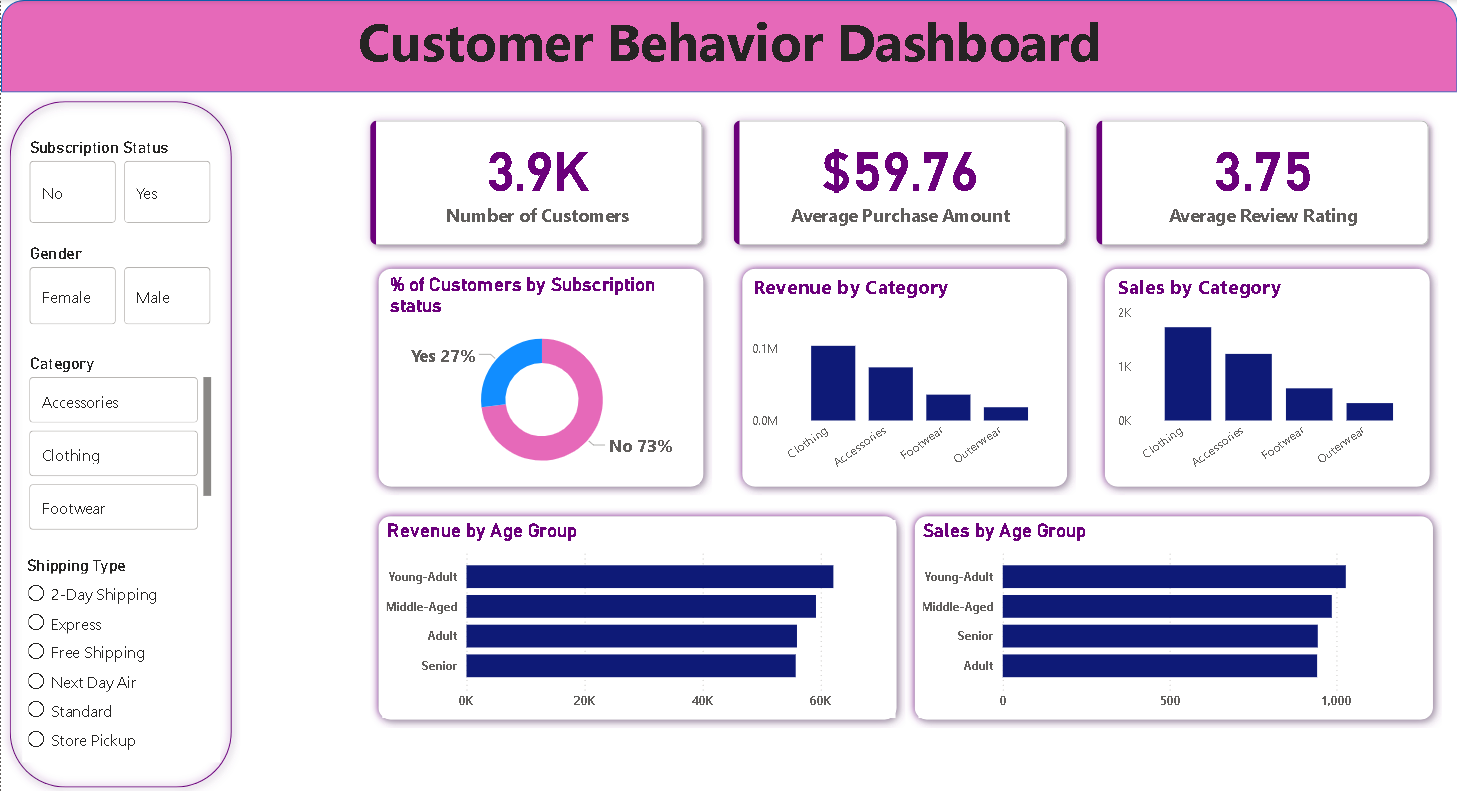

Layout of this report page (visuals, bound fields, positions):
{"tool":"powerbi","page":{"name":"Page 1","canvas":[1500,820],"ordinal":0},"visuals":[{"type":"cardVisual","fields":{"Data":["public customer.Number of Customers","public customer.Average Purchase Amount","public customer.Average Review Rating"]},"box":[351.6,95.4,1148.7,186.7],"z":0},{"type":"shape","box":[0,0,1500.3,95.4],"z":1000},{"type":"textbox","box":[0,0,1500.3,95.4],"z":2000},{"type":"shape","box":[380.2,268.4,352.9,242.6],"z":3000},{"type":"donutChart","title":"% of Customers by Subscription status","fields":{"Category":["public customer.subscription_status"],"Y":["CountNonNull(public customer.customer_id)"]},"box":[395.2,282.1,324.3,216.7],"z":4000},{"type":"shape","box":[1128.3,268.4,352.9,242.6],"z":5000},{"type":"shape","box":[754.9,268.4,352.9,242.6],"z":6000},{"type":"clusteredColumnChart","title":"Revenue by Category","fields":{"Y":["Sum(public customer.purchase_amount)"],"Category":["public customer.category"]},"box":[769.9,280.7,318.9,216.7],"z":7000},{"type":"clusteredColumnChart","title":"Sales by Category","fields":{"Y":["CountNonNull(public customer.customer_id)"],"Category":["public customer.category"]},"box":[1146,280.7,320.2,216.7],"z":8000},{"type":"shape","box":[0,95.4,246.6,724.9],"z":9000},{"type":"advancedSlicerVisual","fields":{"Values":["public customer.subscription_status"]},"box":[24.5,141.7,197.6,94],"z":10000},{"type":"advancedSlicerVisual","fields":{"Values":["public customer.gender"]},"box":[24.5,250.7,197.6,88.6],"z":11000},{"type":"advancedSlicerVisual","fields":{"Values":["public customer.category"]},"box":[24.5,363.8,197.6,188],"z":12000},{"type":"listSlicer","fields":{"Values":["public customer.shipping_type"]},"box":[21.8,572.3,204.4,213.9],"z":13000},{"type":"clusteredBarChart","title":"Revenue by Age Group","fields":{"Y":["Sum(public customer.purchase_amount)"],"Category":["public customer.age_group"]},"box":[395.2,535.5,528.7,204.4],"z":14000},{"type":"shape","box":[384.3,523.3,551.9,227.6],"z":15000},{"type":"shape","box":[932.1,523.3,551.9,227.6],"z":15001},{"type":"clusteredBarChart","title":"Sales by Age Group","fields":{"Y":["CountNonNull(public customer.customer_id)"],"Category":["public customer.age_group"]},"box":[945.7,535.5,520.5,204.4],"z":15002}]}

Visuals, with their boxes in screenshot pixels (x1, y1, x2, y2), scaled from the page's 1500x820 canvas onto the 1457x791 screenshot:
cardVisual - public customer.Number of Customers x public customer.Average Purchase Amount: bbox=(342, 92, 1456, 272)
shape: bbox=(0, 0, 1456, 92)
textbox: bbox=(0, 0, 1456, 92)
shape: bbox=(369, 259, 712, 493)
"% of Customers by Subscription status" donutChart: bbox=(384, 272, 699, 481)
shape: bbox=(1096, 259, 1439, 493)
shape: bbox=(733, 259, 1076, 493)
"Revenue by Category" clusteredColumnChart: bbox=(748, 271, 1058, 480)
"Sales by Category" clusteredColumnChart: bbox=(1113, 271, 1424, 480)
shape: bbox=(0, 92, 240, 790)
advancedSlicerVisual - public customer.subscription_status: bbox=(24, 137, 216, 227)
advancedSlicerVisual - public customer.gender: bbox=(24, 242, 216, 327)
advancedSlicerVisual - public customer.category: bbox=(24, 351, 216, 532)
listSlicer - public customer.shipping_type: bbox=(21, 552, 220, 758)
"Revenue by Age Group" clusteredBarChart: bbox=(384, 517, 897, 714)
shape: bbox=(373, 505, 909, 724)
shape: bbox=(905, 505, 1441, 724)
"Sales by Age Group" clusteredBarChart: bbox=(919, 517, 1424, 714)
